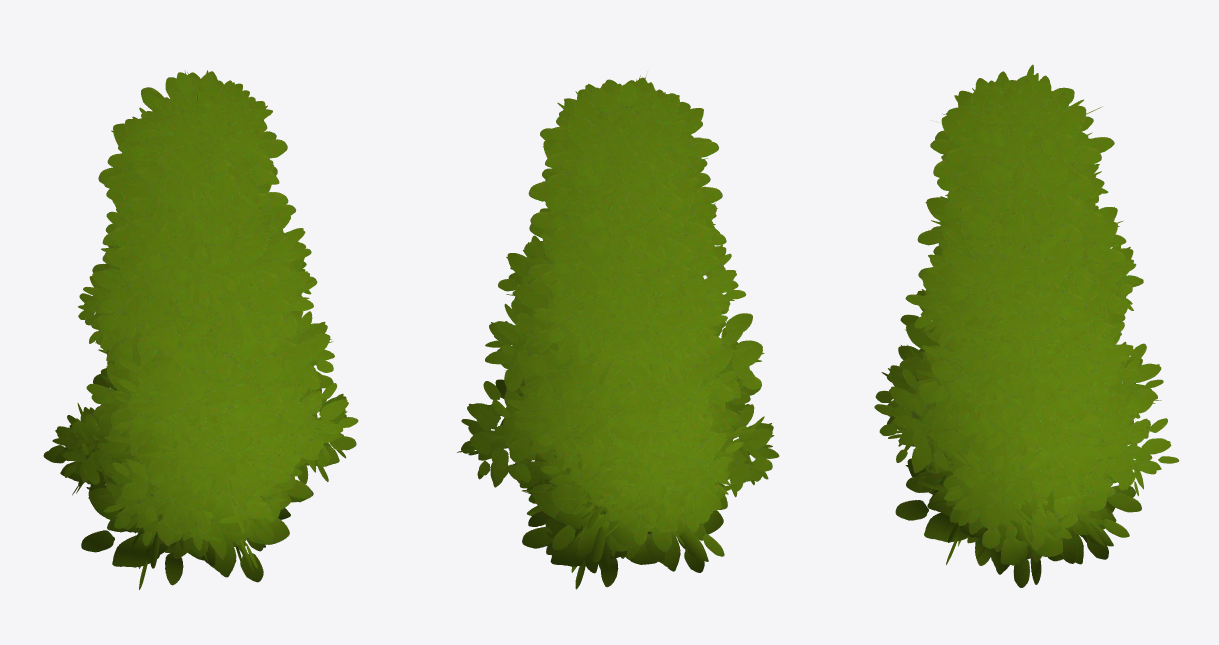
The model's file is bush-4.glb.
3 views of the same model, side by side, from view 1: azimuth 30°, elevation 25°; view 2: azimuth 150°, elevation 25°; view 3: azimuth 270°, elevation 25° (orthographic).
Parts seen in each view (by area): view 1: Bush_Long_2; view 2: Bush_Long_2; view 3: Bush_Long_2.
Part boxes in pixels (bbox=[...]): Bush_Long_2: bbox=[43, 70, 358, 589]; Bush_Long_2: bbox=[457, 75, 779, 589]; Bush_Long_2: bbox=[874, 64, 1179, 587].
Size of the model in its own units: 0.407 by 0.7 by 0.3955.
1 material, 1 textured.
